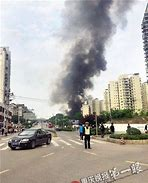smoke: (57, 1, 108, 102)
